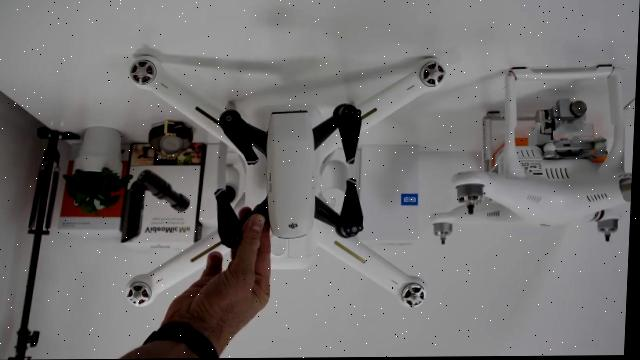drone: (0, 35, 639, 323)
